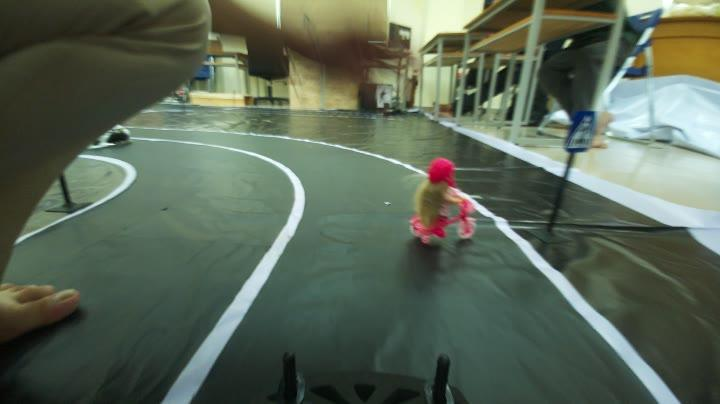crosswalk: (556, 105, 604, 157)
pedestrian: (402, 154, 484, 238)
